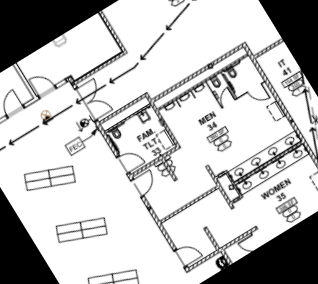door: (26, 68, 58, 102), (128, 167, 161, 199), (172, 237, 205, 269), (114, 144, 147, 175), (243, 79, 274, 109), (0, 86, 27, 120), (214, 85, 237, 108)
double door: (74, 75, 117, 122)
wall: (239, 38, 318, 200), (150, 38, 250, 105), (181, 220, 263, 276), (119, 133, 197, 188), (68, 46, 132, 90), (90, 87, 152, 131), (158, 183, 220, 226), (136, 193, 179, 254), (96, 10, 133, 60), (202, 162, 237, 212), (92, 118, 124, 161), (158, 116, 187, 156), (250, 35, 285, 62), (141, 88, 165, 122), (200, 224, 222, 252), (219, 246, 236, 266)
